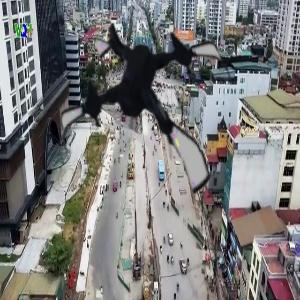drone: (52, 13, 247, 208)
